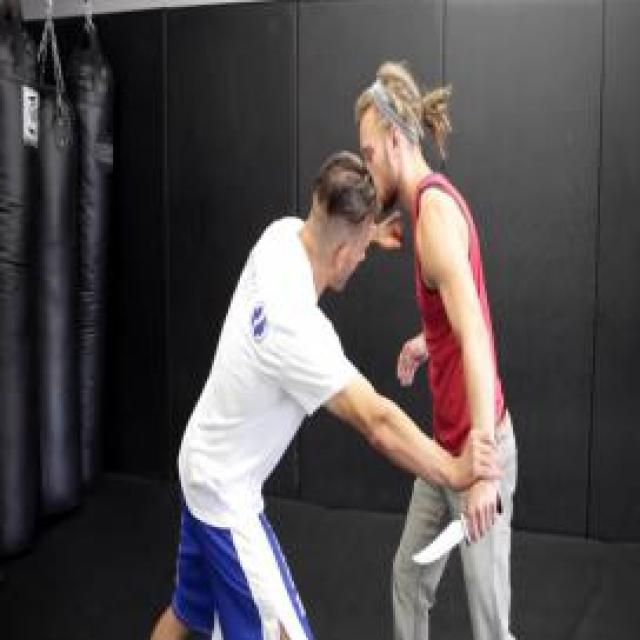knife: (408, 484, 508, 576)
